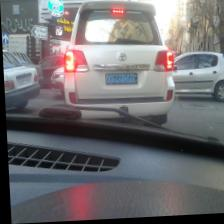plate: (105, 74, 137, 86), (15, 78, 29, 86)
